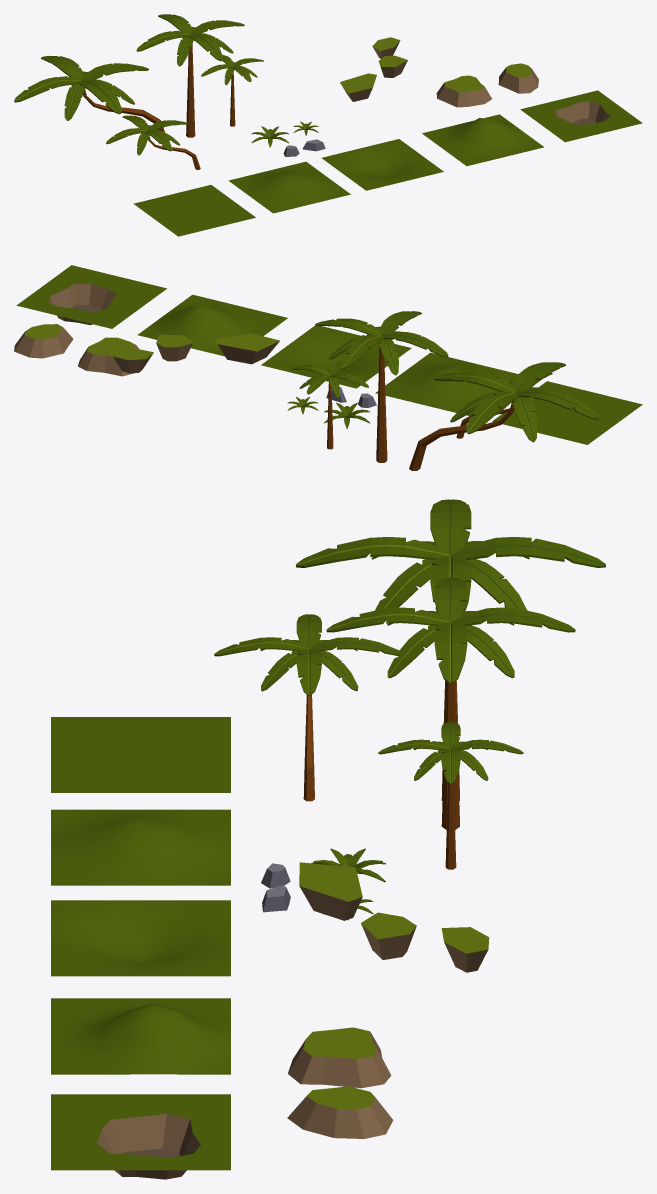
Rendered from Envira_pirates.fbx.
The picture shows the model from 3 angles, top to bottom: view 1: azimuth 30°, elevation 25°; view 2: azimuth 150°, elevation 25°; view 3: azimuth 270°, elevation 25°; orthographic projection. The views are drawn at different scales.
Visible parts, largest first — view 1: SM_DL_Palma_2, SM_DL_GROUND_4, SM_DL_GROUND_1, SM_DL_GDOUND_3, SM_DL_GROUND_2, SM_DL_GROUND_5, SM_DL_Palma, SM_DL_Palma_mini_2, SM_DL_Ground_rock_2, SM_DL_Ground_rock_1, SM_DL_Palma_mini, SM_DL_Platform_1 (+2 smaller); view 2: SM_DL_Palma_2, SM_DL_GROUND_5, SM_DL_GROUND_4, SM_DL_Palma, SM_DL_GROUND_2, SM_DL_GROUND_1, SM_DL_GDOUND_3, SM_DL_Ground_rock_1, SM_DL_Palma_mini, SM_DL_Platform_1, SM_DL_Ground_rock_2, SM_DL_Platform_2 (+2 smaller); view 3: SM_DL_GROUND_5, SM_DL_GROUND_2, SM_DL_GDOUND_3, SM_DL_GROUND_4, SM_DL_GROUND_1, SM_DL_Palma_2, SM_DL_Palma, SM_DL_Palma_mini_2, SM_DL_Ground_rock_2, SM_DL_Ground_rock_1, SM_DL_Palma_mini, SM_DL_Platform_1 (+2 smaller).
Boxes of the visible parts, bbox=[...] form: SM_DL_Palma_2: bbox=[14, 56, 164, 143]; SM_DL_GROUND_4: bbox=[422, 114, 543, 166]; SM_DL_GROUND_1: bbox=[133, 185, 255, 236]; SM_DL_GDOUND_3: bbox=[322, 139, 443, 190]; SM_DL_GROUND_2: bbox=[228, 161, 350, 213]; SM_DL_GROUND_5: bbox=[520, 90, 642, 142]; SM_DL_Palma: bbox=[136, 14, 244, 137]; SM_DL_Palma_mini_2: bbox=[106, 115, 200, 169]; SM_DL_Ground_rock_2: bbox=[436, 75, 491, 107]; SM_DL_Ground_rock_1: bbox=[498, 63, 538, 93]; SM_DL_Palma_mini: bbox=[201, 55, 263, 126]; SM_DL_Platform_1: bbox=[340, 73, 376, 101]; SM_DL_Palma_2: bbox=[409, 362, 598, 470]; SM_DL_GROUND_5: bbox=[16, 265, 166, 328]; SM_DL_GROUND_4: bbox=[137, 294, 287, 356]; SM_DL_Palma: bbox=[315, 311, 448, 462]; SM_DL_GROUND_2: bbox=[375, 352, 518, 415]; SM_DL_GROUND_1: bbox=[492, 381, 642, 444]; SM_DL_GDOUND_3: bbox=[261, 325, 411, 388]; SM_DL_Ground_rock_1: bbox=[14, 324, 73, 358]; SM_DL_Palma_mini: bbox=[291, 361, 368, 449]; SM_DL_Platform_1: bbox=[215, 333, 279, 364]; SM_DL_Ground_rock_2: bbox=[78, 337, 138, 376]; SM_DL_Platform_2: bbox=[156, 334, 192, 361]; SM_DL_GROUND_5: bbox=[51, 1094, 230, 1179]; SM_DL_GROUND_2: bbox=[51, 809, 230, 885]; SM_DL_GDOUND_3: bbox=[51, 900, 230, 976]; SM_DL_GROUND_4: bbox=[51, 998, 230, 1074]; SM_DL_GROUND_1: bbox=[51, 717, 230, 792]; SM_DL_Palma_2: bbox=[296, 499, 605, 800]; SM_DL_Palma: bbox=[326, 577, 575, 829]; SM_DL_Palma_mini_2: bbox=[214, 614, 399, 801]; SM_DL_Ground_rock_2: bbox=[288, 1027, 391, 1088]; SM_DL_Ground_rock_1: bbox=[287, 1086, 393, 1138]; SM_DL_Palma_mini: bbox=[378, 722, 523, 869]; SM_DL_Platform_1: bbox=[299, 862, 362, 920].
Bounding box in the file's own units: 27.12 × 5.88 × 12.34.
